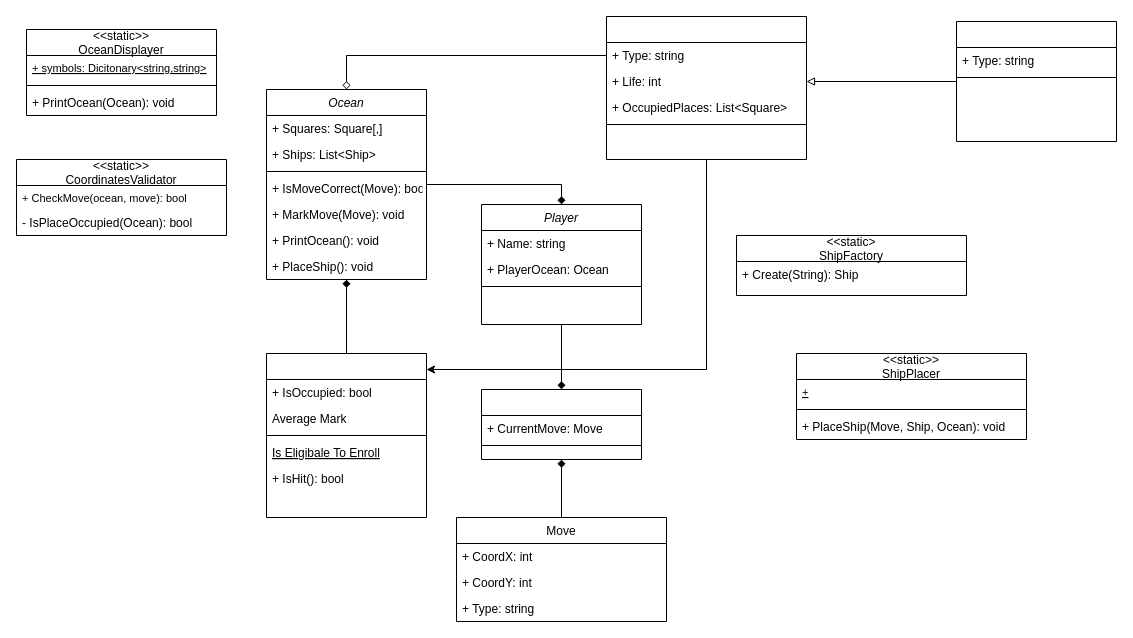
The diagram is 1133 pixels wide and 638 high, and some of its shapes have lost their labels. The shapes that lost their labels are listed below. From the top down, each one's box as (x1, y1, x2, y2) in pixels, then its label:
(606, 16, 806, 160): Ship
(956, 20, 1116, 142): ShipImplementation
(266, 352, 426, 518): Square
(480, 388, 642, 460): Game
